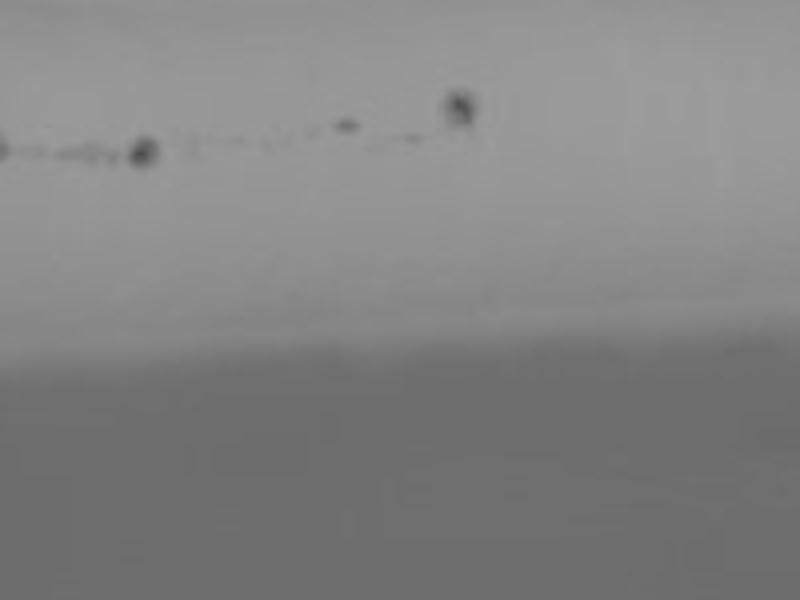defect: (439, 82, 491, 134), (53, 143, 121, 169), (127, 135, 163, 168), (398, 126, 426, 154), (331, 114, 360, 133), (301, 118, 322, 140), (20, 142, 44, 159), (1, 137, 15, 162), (257, 136, 275, 155)
